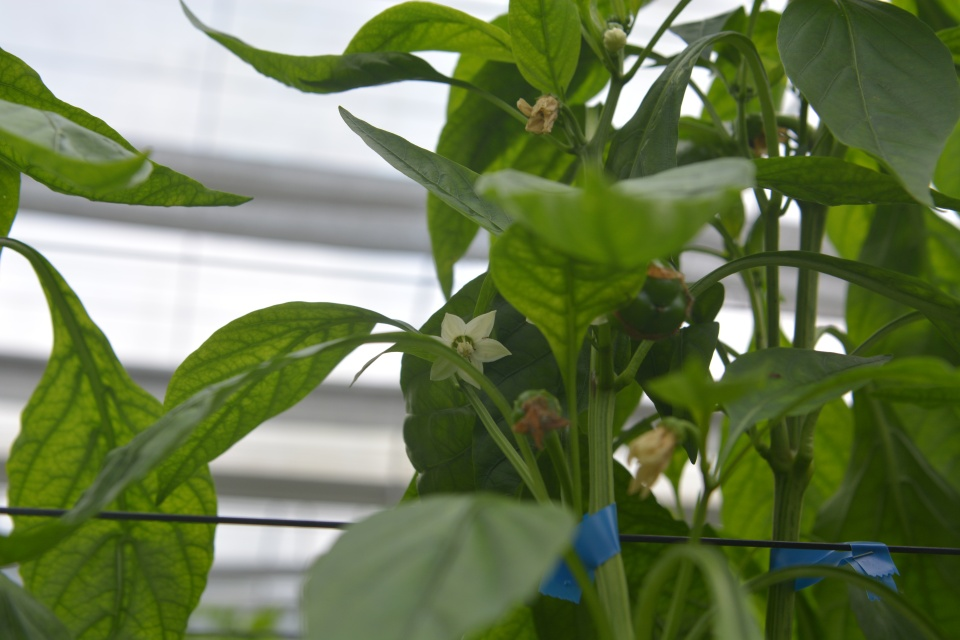flower: (424, 306, 516, 389)
immature: (614, 265, 690, 340)
